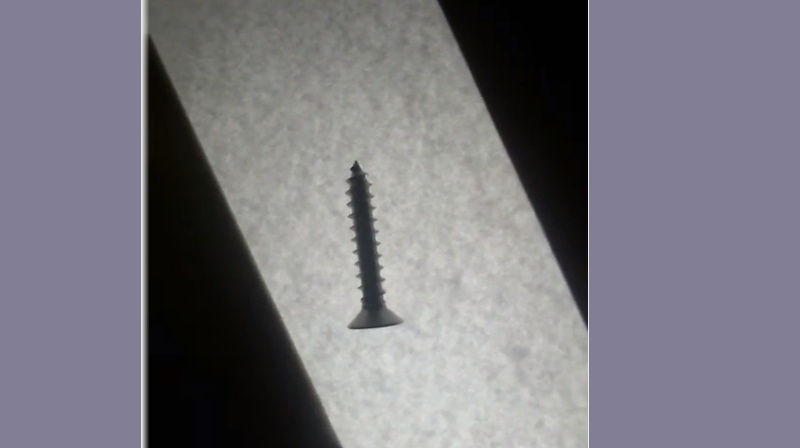S001: (342, 154, 404, 332)
